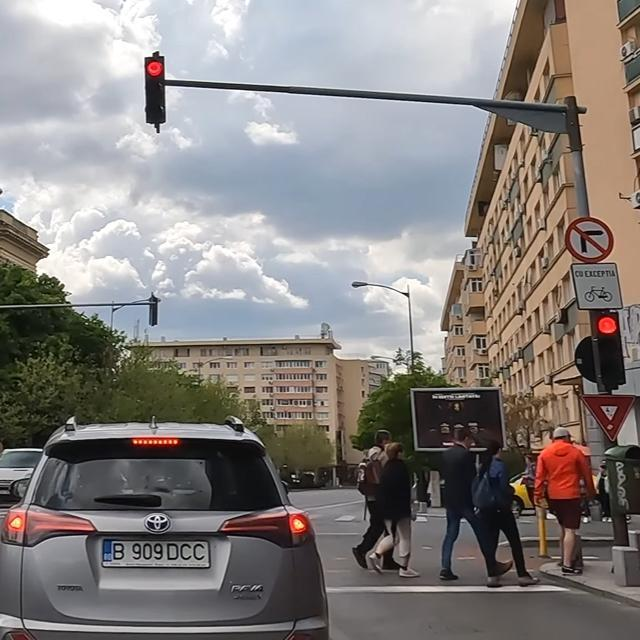prio_give_way: (579, 393, 636, 443)
